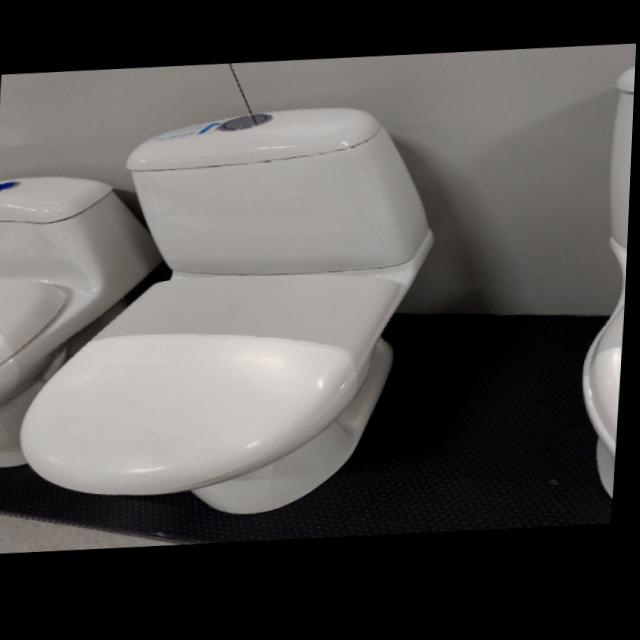toilet: (18, 99, 445, 533), (0, 168, 172, 470), (579, 70, 636, 510)
